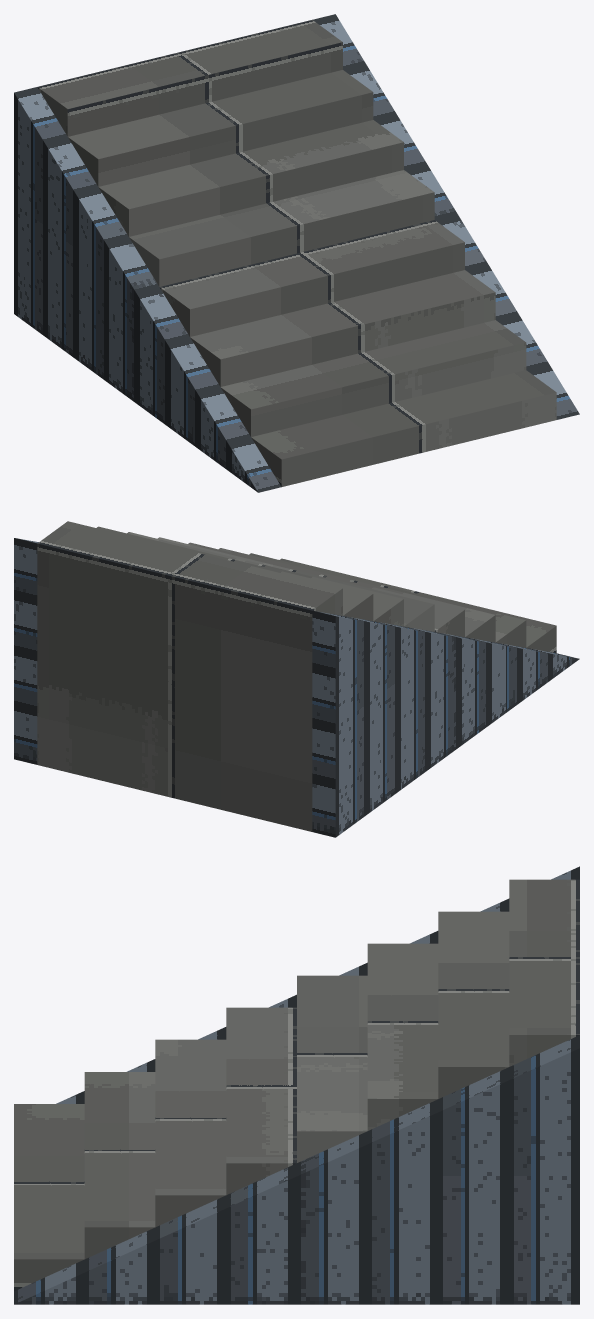
Rendered from arch_stair.glb.
3 views of the same model, one above another, from view 1: azimuth 30°, elevation 25°; view 2: azimuth 150°, elevation 25°; view 3: azimuth 270°, elevation 25° (orthographic). The views are drawn at different scales.
Visible parts, largest first — view 1: arch_stair; view 2: arch_stair; view 3: arch_stair.
Boxes of the visible parts, x1,y1,x2,y2 form: arch_stair: (14,14,579,492); arch_stair: (14,521,579,837); arch_stair: (14,866,579,1304).
Bounding box in the file's own units: 3.04 × 2 × 4.
3 materials, 3 textured.
